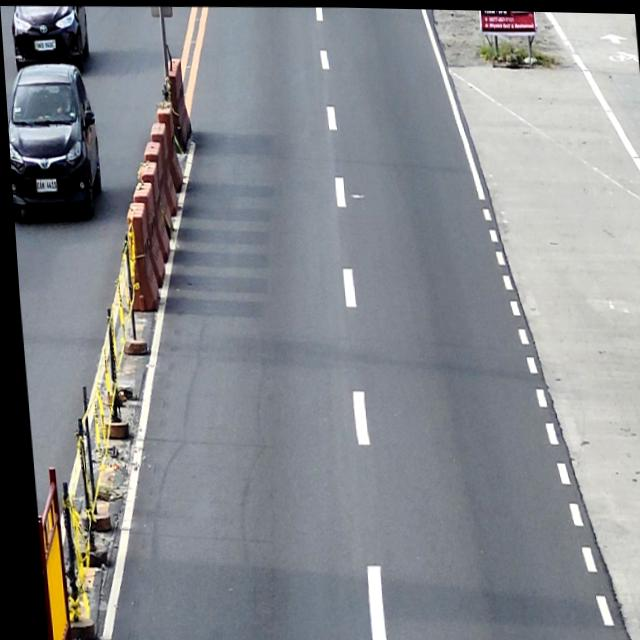Car: (3, 61, 102, 224), (9, 4, 90, 74)
License-Plate: (33, 179, 55, 192), (33, 40, 55, 51)
